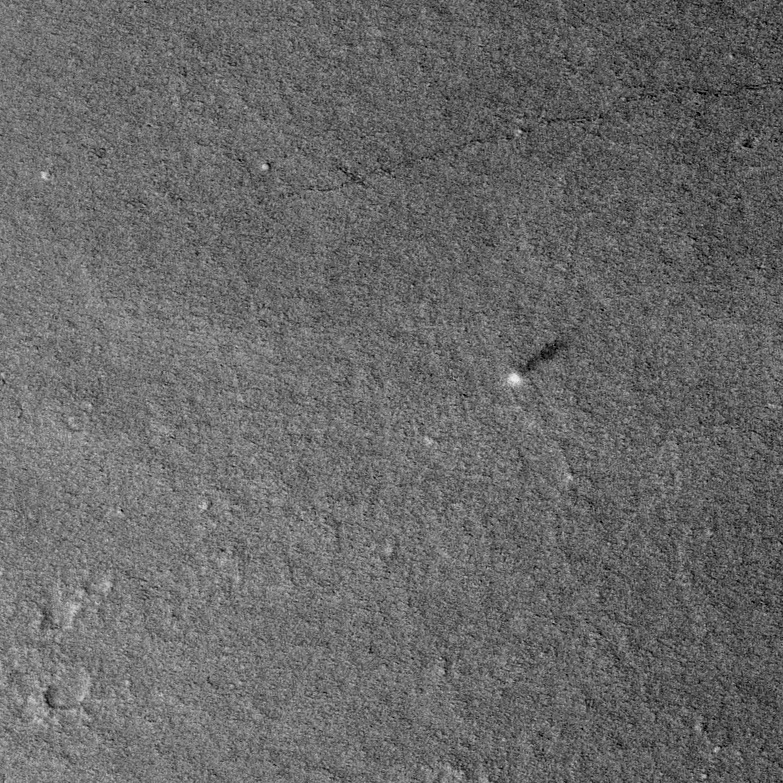dust_devil: (506, 339, 570, 385)
